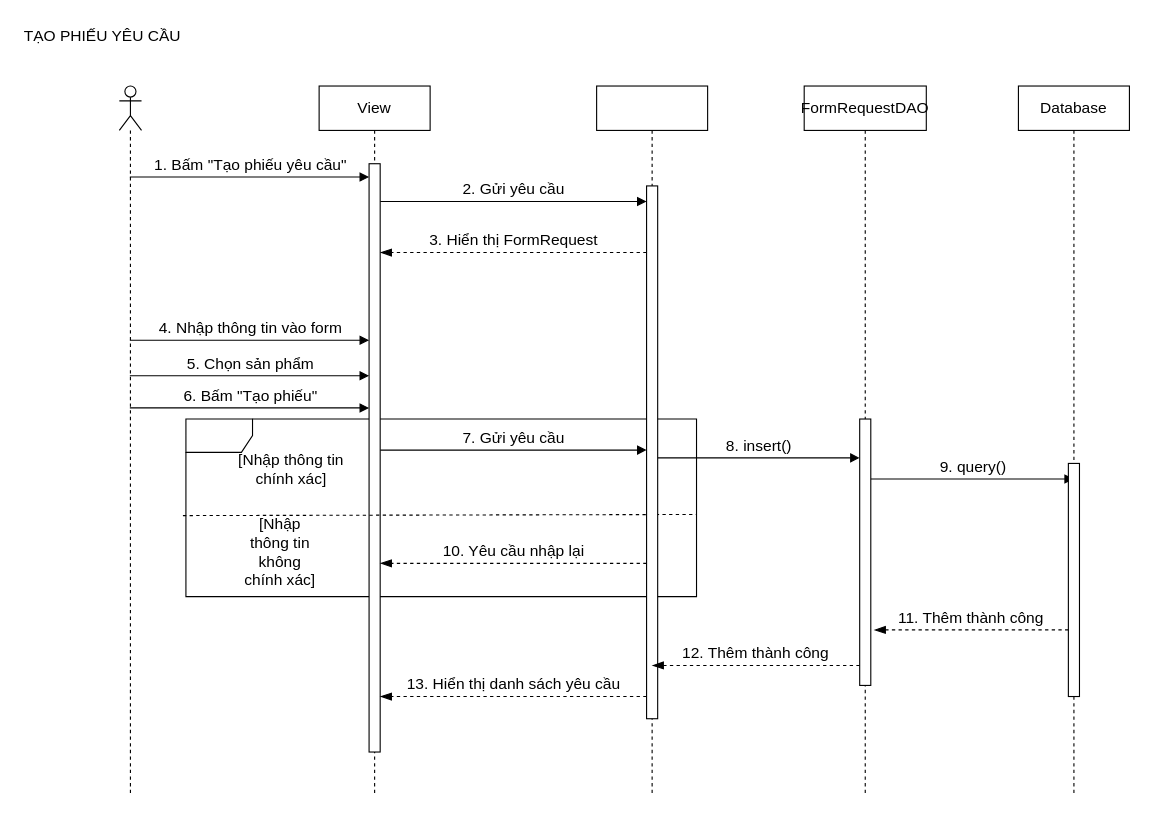
Some shapes in this 1149 by 816 pixel diagram are drawn without their labels. Each missing label, with the box of its shape:
alt: (185, 418, 697, 597)
Controller: (596, 85, 708, 796)
